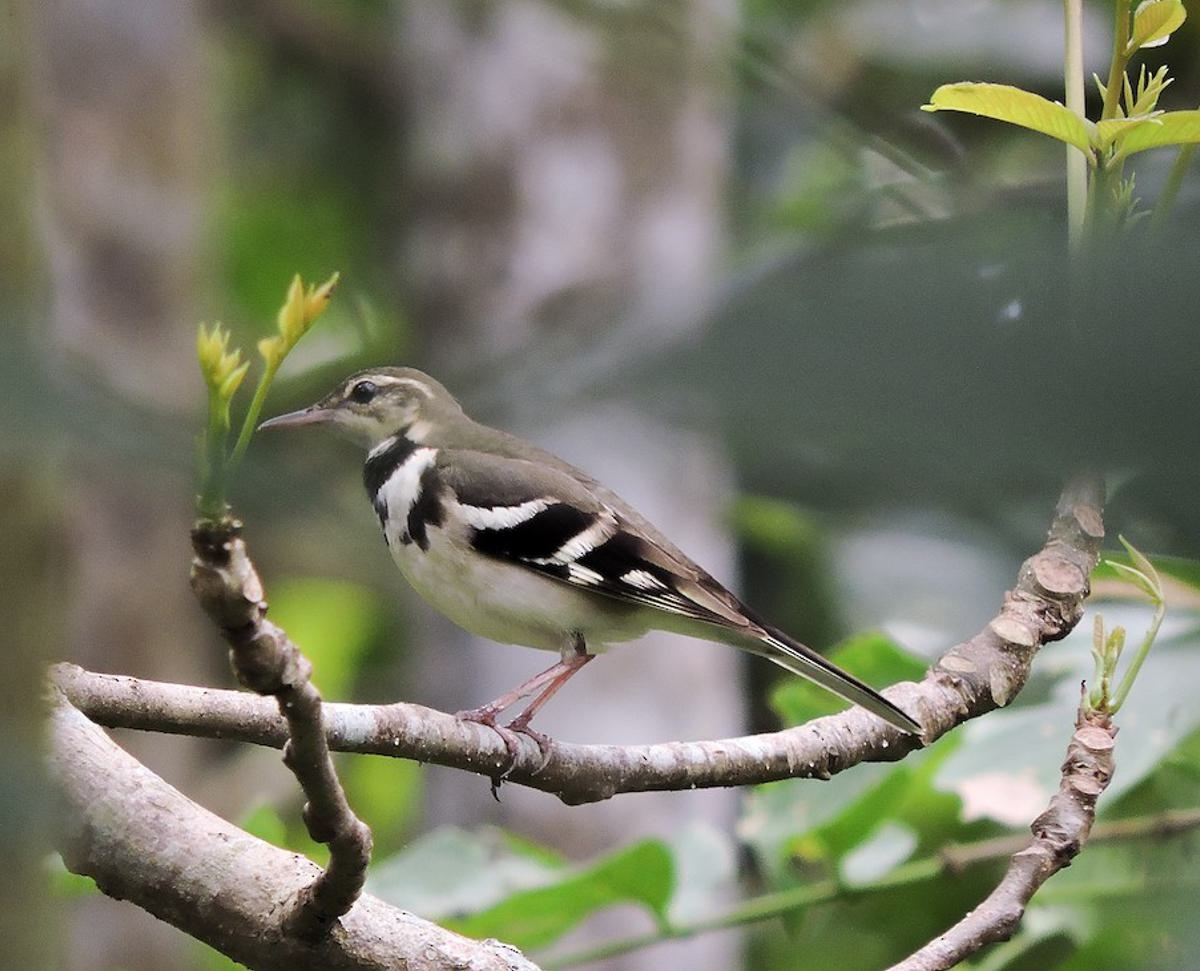wagtail: (259, 348, 850, 736)
